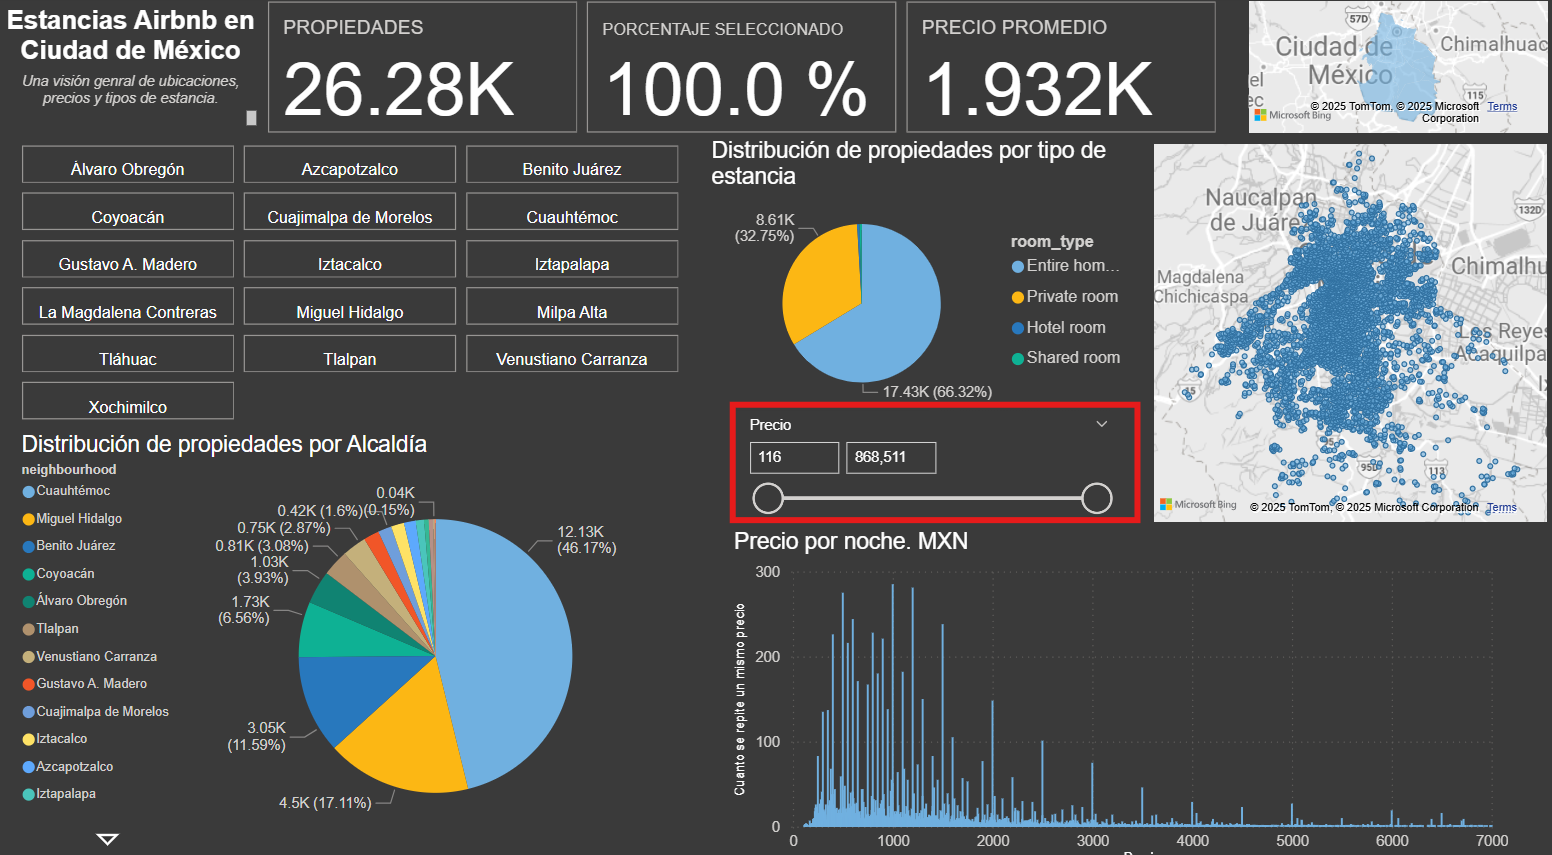

What the dashboard file says about the page in this screenshot:
{"tool":"powerbi","page":{"name":"Dashboard","canvas":[1280,720],"ordinal":0},"visuals":[{"type":"advancedSlicerVisual","fields":{"Values":["Sheet1.neighbourhood"]},"box":[13.7,118,553,241.5],"z":0},{"type":"map","fields":{"Y":["Sheet1.latitude"],"X":["Sheet1.longitude"]},"box":[946.2,117.6,333.9,321.7],"z":1000},{"type":"filledMap","fields":{"Category":["Sheet1.Mapa_Alcaldia"]},"box":[1024.4,0,256.4,118.6],"z":2000},{"type":"pieChart","title":"Distribución de propiedades por Alcaldía","fields":{"Category":["Sheet1.neighbourhood"],"Y":["CountNonNull(Sheet1.neighbourhood)"]},"box":[13.7,359.5,553,348.6],"z":3000},{"type":"cardVisual","title":"propiedades","fields":{"Data":["Sheet1.TOTAL PROPIEDADES","Sheet1.PercentageSelected","Sheet1.PROMEDIO PRECIOS"]},"box":[216.7,0,791.7,118.3],"z":4000},{"type":"pieChart","title":"Distribución de propiedades por tipo de estancia","fields":{"Category":["Sheet1.room_type"],"Y":["CountNonNull(Sheet1.room_type)"]},"box":[582.6,117.6,363.6,231.1],"z":5000},{"type":"textbox","title":"Estancias Airbnb en Ciudad de México","box":[0,8.2,216.8,101.6],"z":6000},{"type":"columnChart","title":"Precio por noche. MXN","fields":{"Category":["Sheet1.price"],"Y":["CountNonNull(Sheet1.price)"]},"box":[600.2,439.3,647.5,281.2],"z":7000},{"type":"slicer","fields":{"Values":["Sheet1.price"]},"box":[605.6,342,320.4,97.3],"z":8000}]}

Visuals, with their boxes in screenshot pixels (x1, y1, x2, y2), scaled from the page's 1280x720 canvas onto the 1552x855 screenshot:
advancedSlicerVisual - Sheet1.neighbourhood: (17, 140, 687, 427)
map - Sheet1.latitude x Sheet1.longitude: (1147, 140, 1551, 522)
filledMap - Sheet1.Mapa_Alcaldia: (1242, 0, 1551, 141)
"Distribución de propiedades por Alcaldía" pieChart: (17, 427, 687, 841)
"propiedades" cardVisual: (263, 0, 1223, 140)
"Distribución de propiedades por tipo de estancia" pieChart: (706, 140, 1147, 414)
"Estancias Airbnb en Ciudad de México" textbox: (0, 10, 263, 130)
"Precio por noche. MXN" columnChart: (728, 522, 1513, 854)
slicer - Sheet1.price: (734, 406, 1123, 522)
